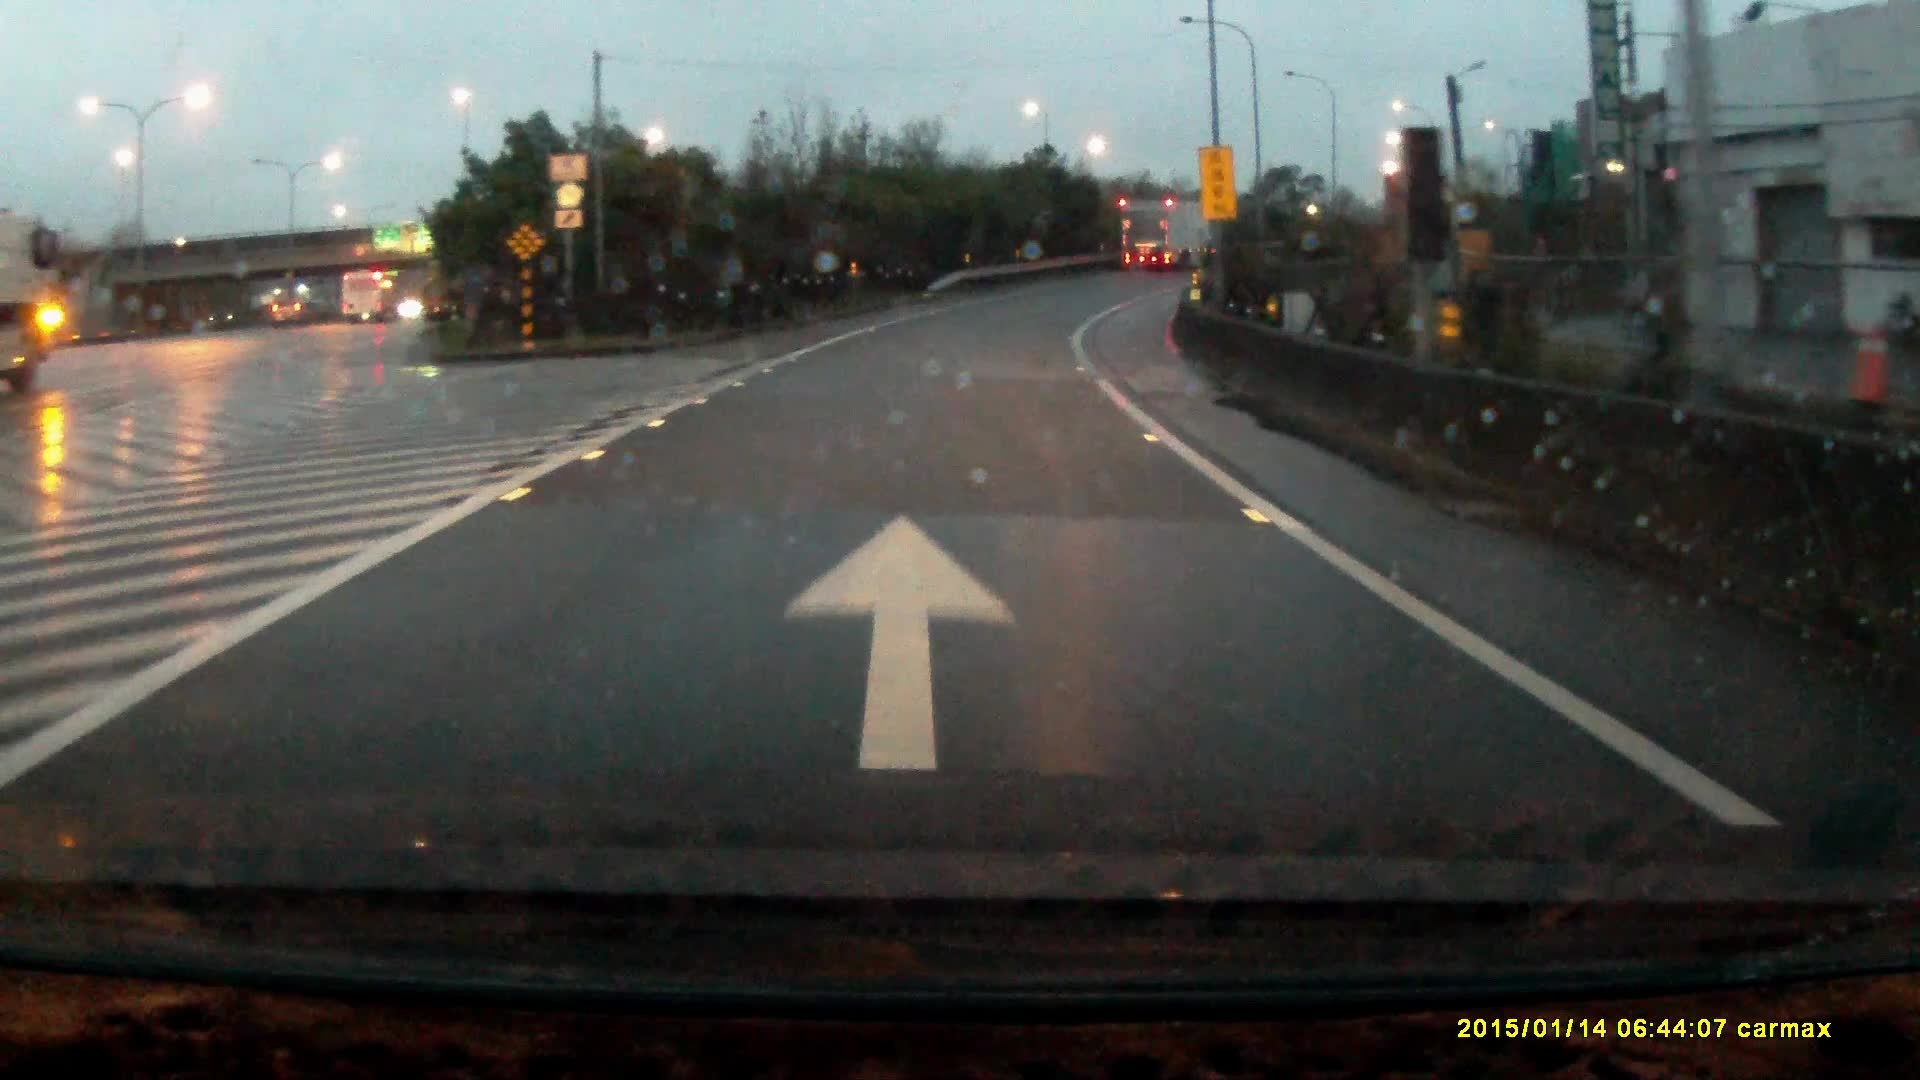vehicle: (1118, 200, 1220, 276), (340, 273, 400, 328), (273, 301, 306, 330)
